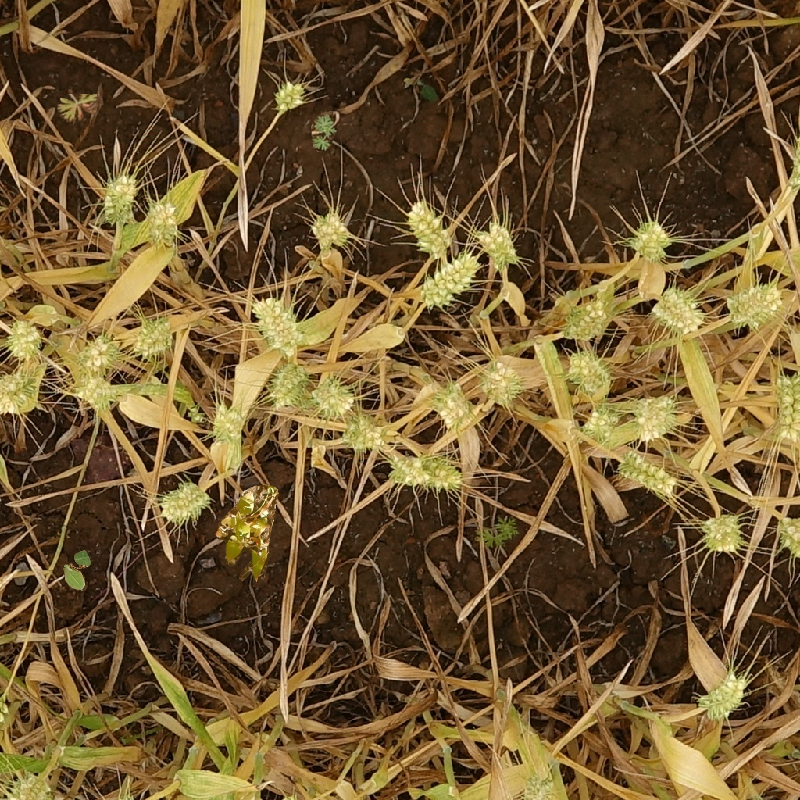spikelet: (420, 252, 480, 307), (617, 449, 679, 497), (389, 452, 463, 491), (252, 296, 302, 353), (406, 199, 452, 257), (726, 281, 782, 326), (699, 671, 748, 722), (652, 286, 703, 334), (157, 479, 210, 524), (633, 394, 678, 440), (562, 298, 609, 341), (566, 350, 611, 394), (100, 172, 137, 224), (479, 221, 519, 269), (773, 371, 799, 444), (479, 360, 521, 404), (434, 381, 473, 428), (700, 512, 743, 554), (132, 316, 175, 358), (268, 362, 307, 408), (630, 219, 671, 261), (312, 377, 354, 416), (144, 200, 180, 245), (78, 334, 119, 373), (311, 210, 350, 249), (5, 319, 43, 359), (344, 415, 385, 451), (1, 370, 35, 413), (3, 770, 53, 799), (75, 375, 116, 409), (210, 402, 244, 442), (583, 404, 619, 440), (775, 515, 800, 563), (272, 79, 306, 113), (310, 110, 337, 150), (521, 771, 557, 799)
weed: (200, 472, 275, 579), (56, 547, 105, 596), (473, 515, 516, 549), (311, 111, 340, 152), (57, 94, 98, 122)
